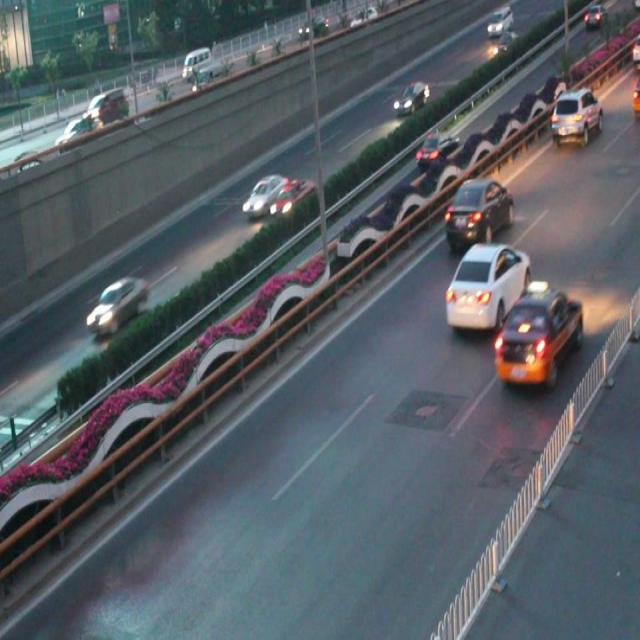car: (494, 282, 582, 383), (442, 241, 532, 331), (444, 175, 513, 249), (85, 277, 146, 332), (548, 87, 602, 144), (268, 176, 316, 220), (414, 129, 459, 172), (241, 175, 286, 217), (392, 76, 428, 120)
